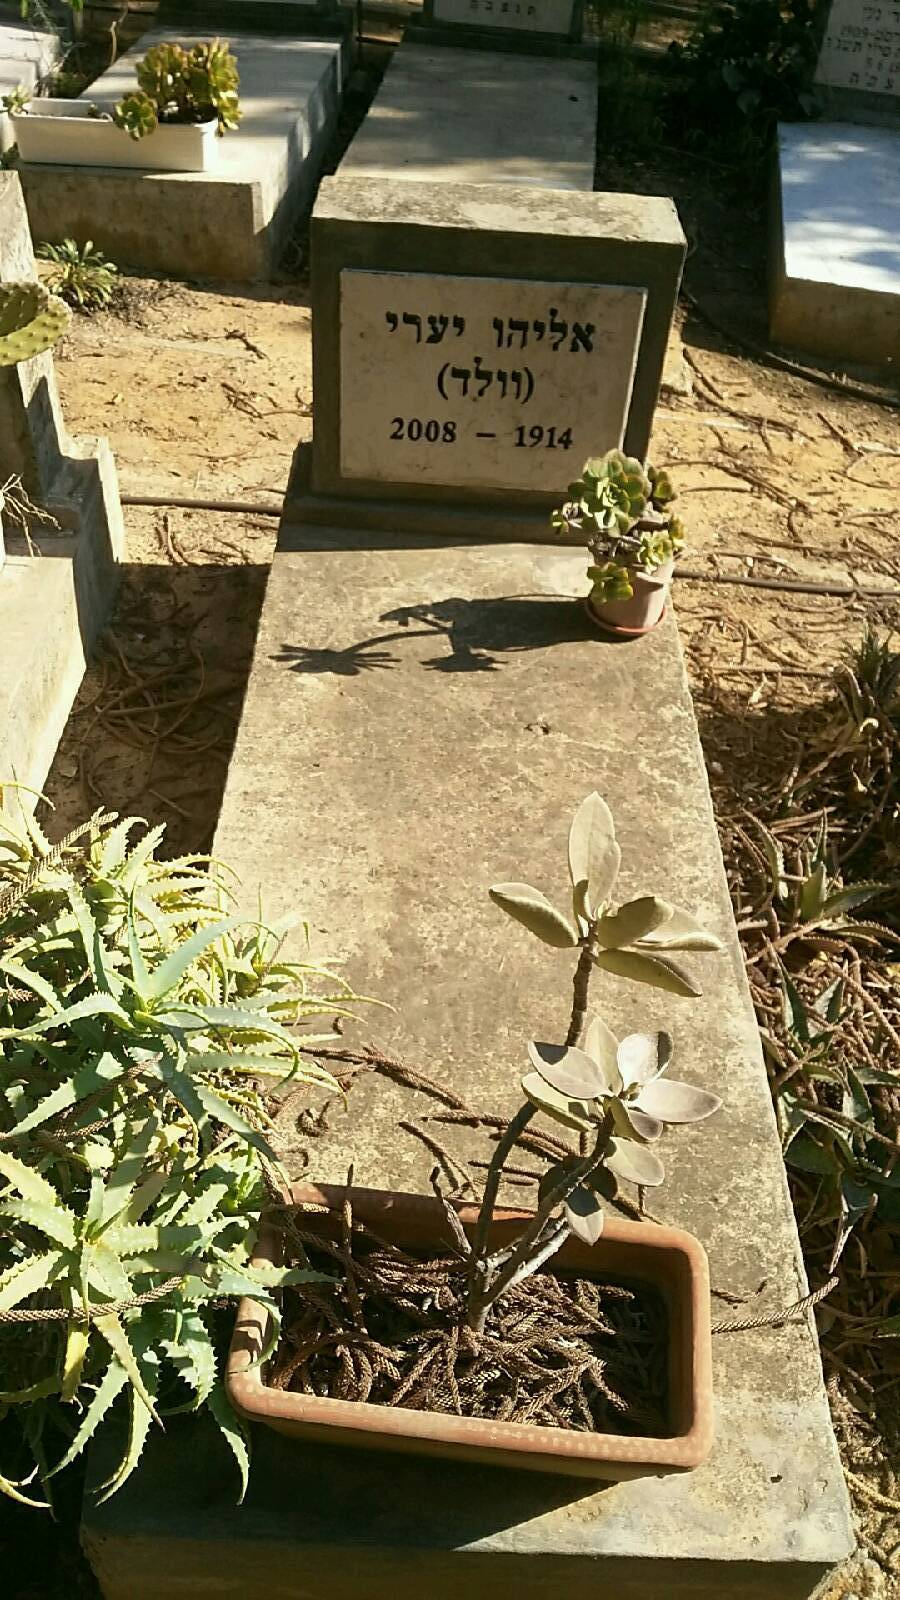vault: (109, 131, 873, 1578)
